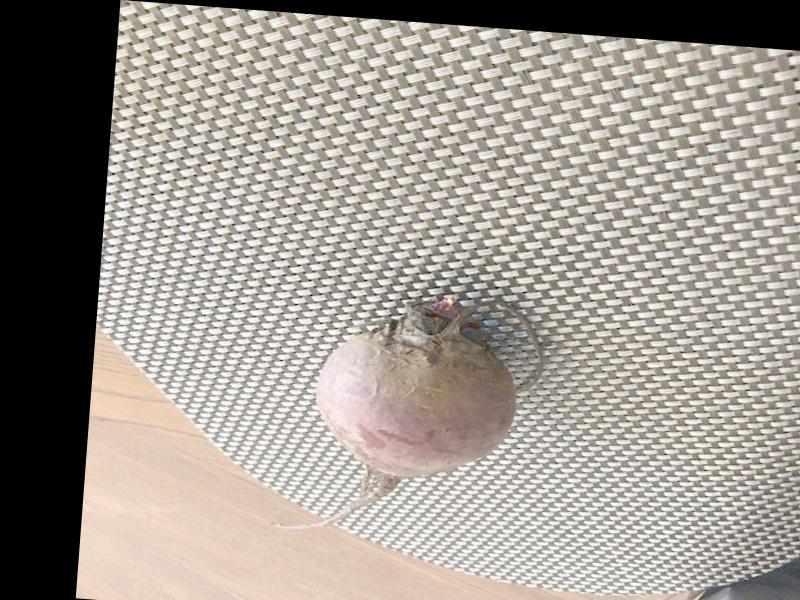Beet: (273, 283, 550, 547)
